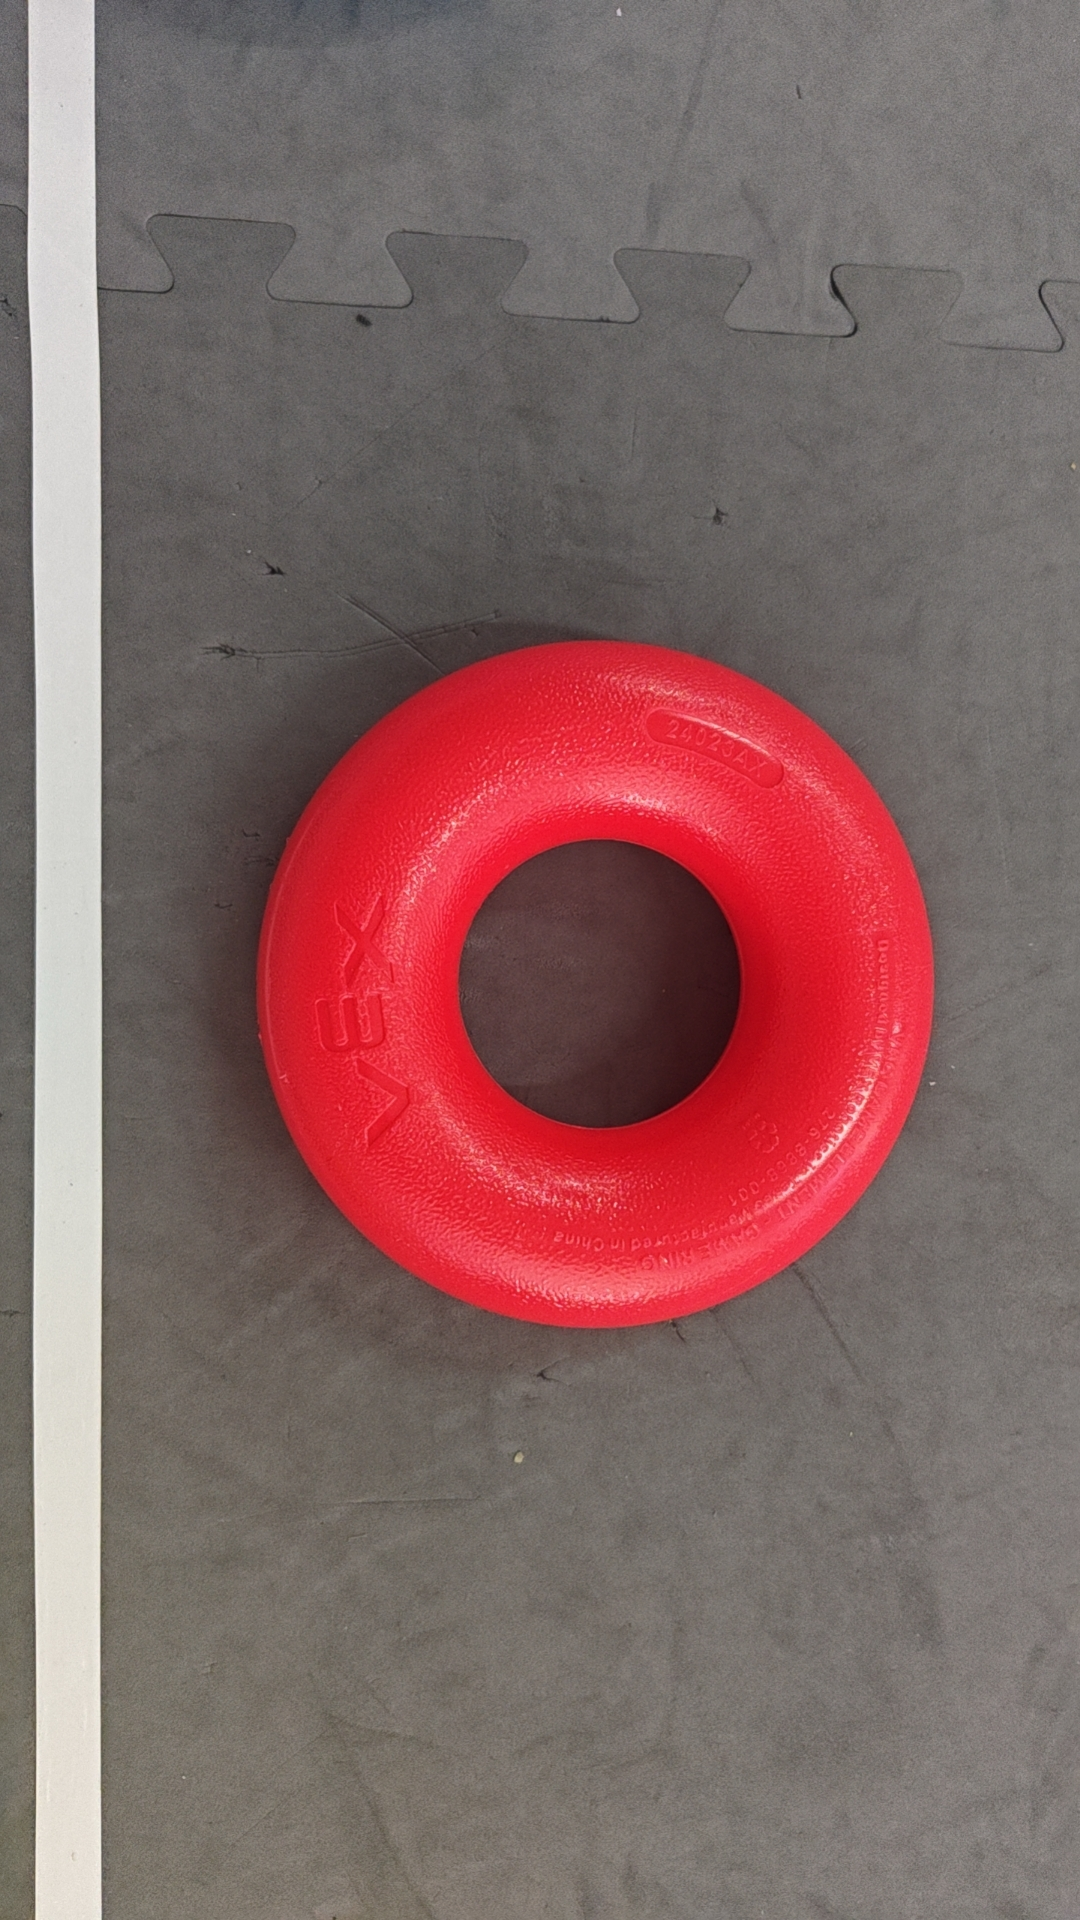red: (252, 630, 944, 1336)
